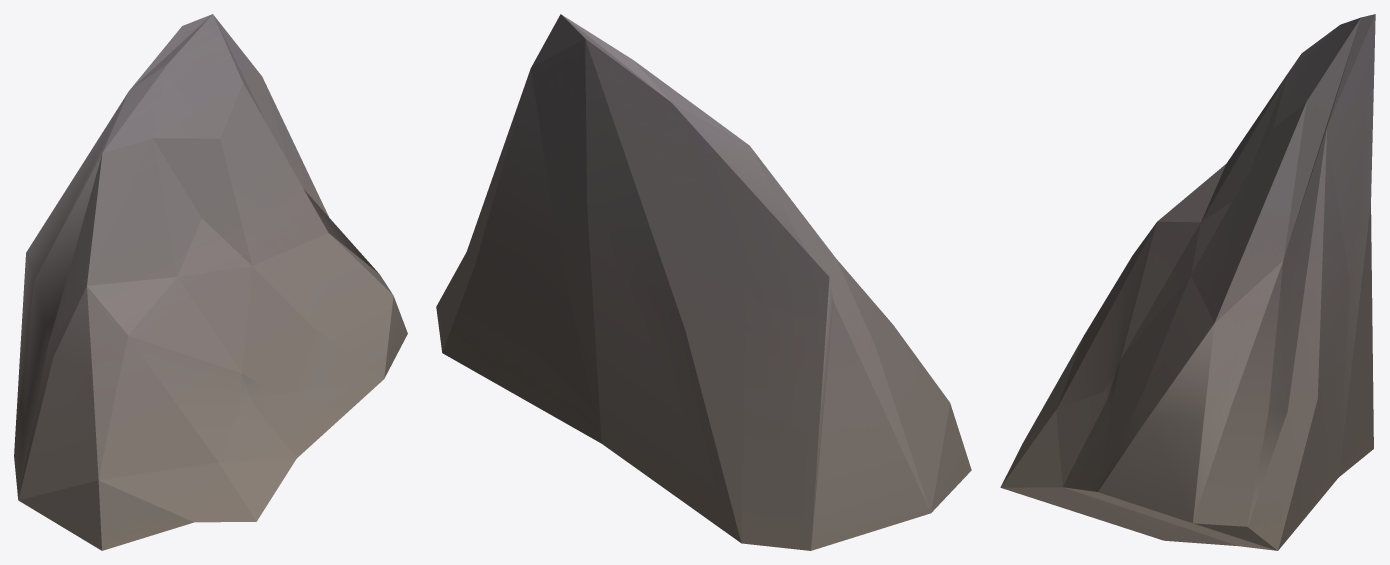
3 views of the same model, side by side, from view 1: azimuth 30°, elevation 25°; view 2: azimuth 150°, elevation 25°; view 3: azimuth 270°, elevation 25° (orthographic). The views are drawn at different scales.
Parts seen in each view (by area): view 1: SharpRock1; view 2: SharpRock1; view 3: SharpRock1.
Boxes of the visible parts, x1,y1,x2,y2 form: SharpRock1: (14, 14, 407, 550); SharpRock1: (436, 14, 971, 550); SharpRock1: (1000, 14, 1375, 550).
Bounding box in the file's own units: 60.11 × 60 × 36.66.
Materials: 1 (1 with a texture image).
